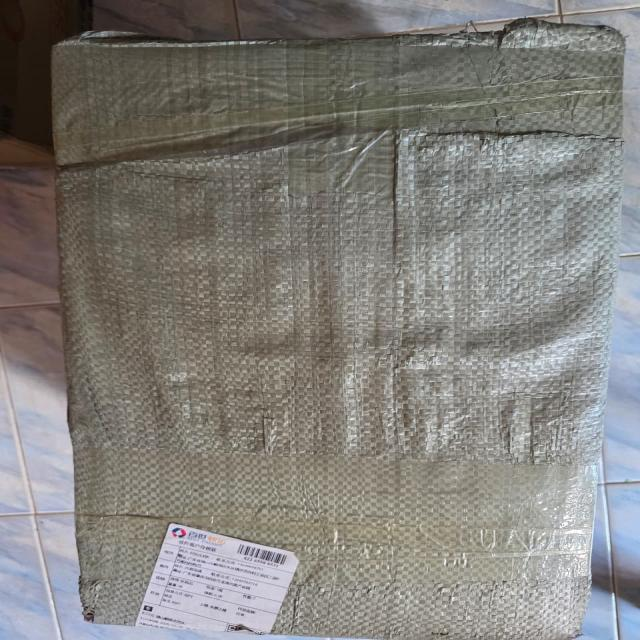export_mark_label: (98, 508, 324, 640)
